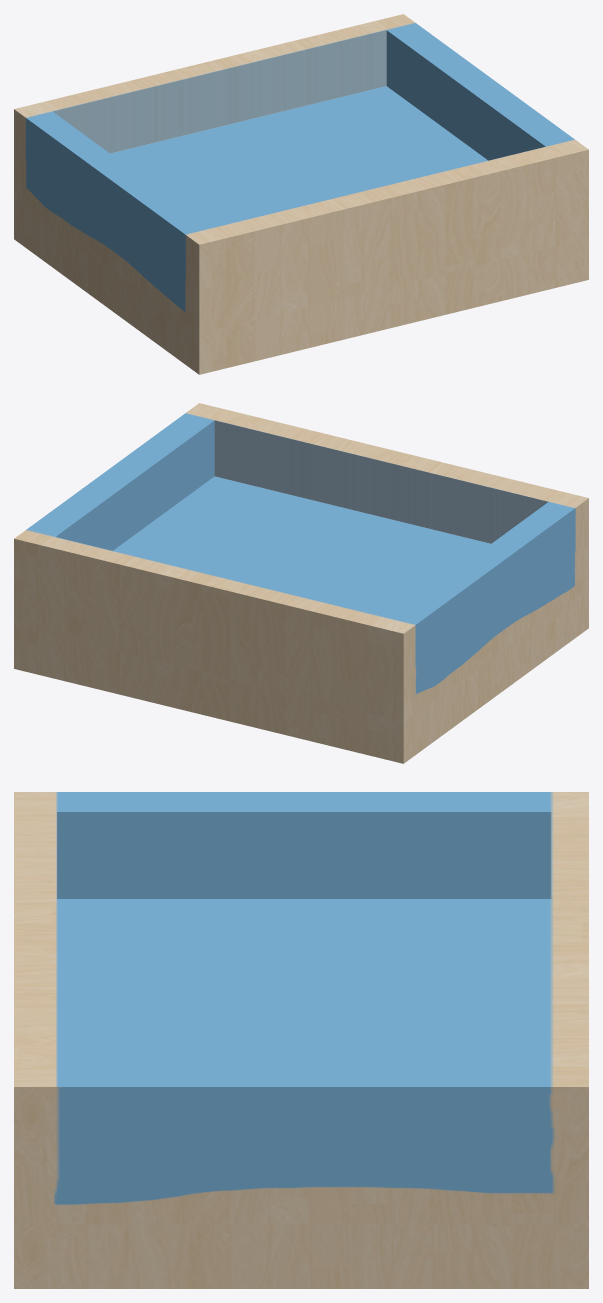
File: bed.fbx
The picture shows the model from 3 angles, top to bottom: view 1: azimuth 30°, elevation 25°; view 2: azimuth 150°, elevation 25°; view 3: azimuth 270°, elevation 25°; orthographic projection. The views are drawn at different scales.
Parts seen in each view (by area): view 1: pCube1; view 2: pCube1; view 3: pCube1.
Boxes of the visible parts, x1,y1,x2,y2 form: pCube1: [14, 14, 588, 374]; pCube1: [14, 403, 588, 763]; pCube1: [14, 792, 588, 1288].
Bounding box in the file's own units: 3.13 × 1 × 2.58.
1 material, 1 textured.
